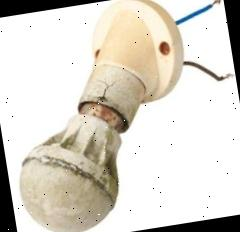lightbulb: (0, 0, 240, 232), (7, 107, 133, 232)
